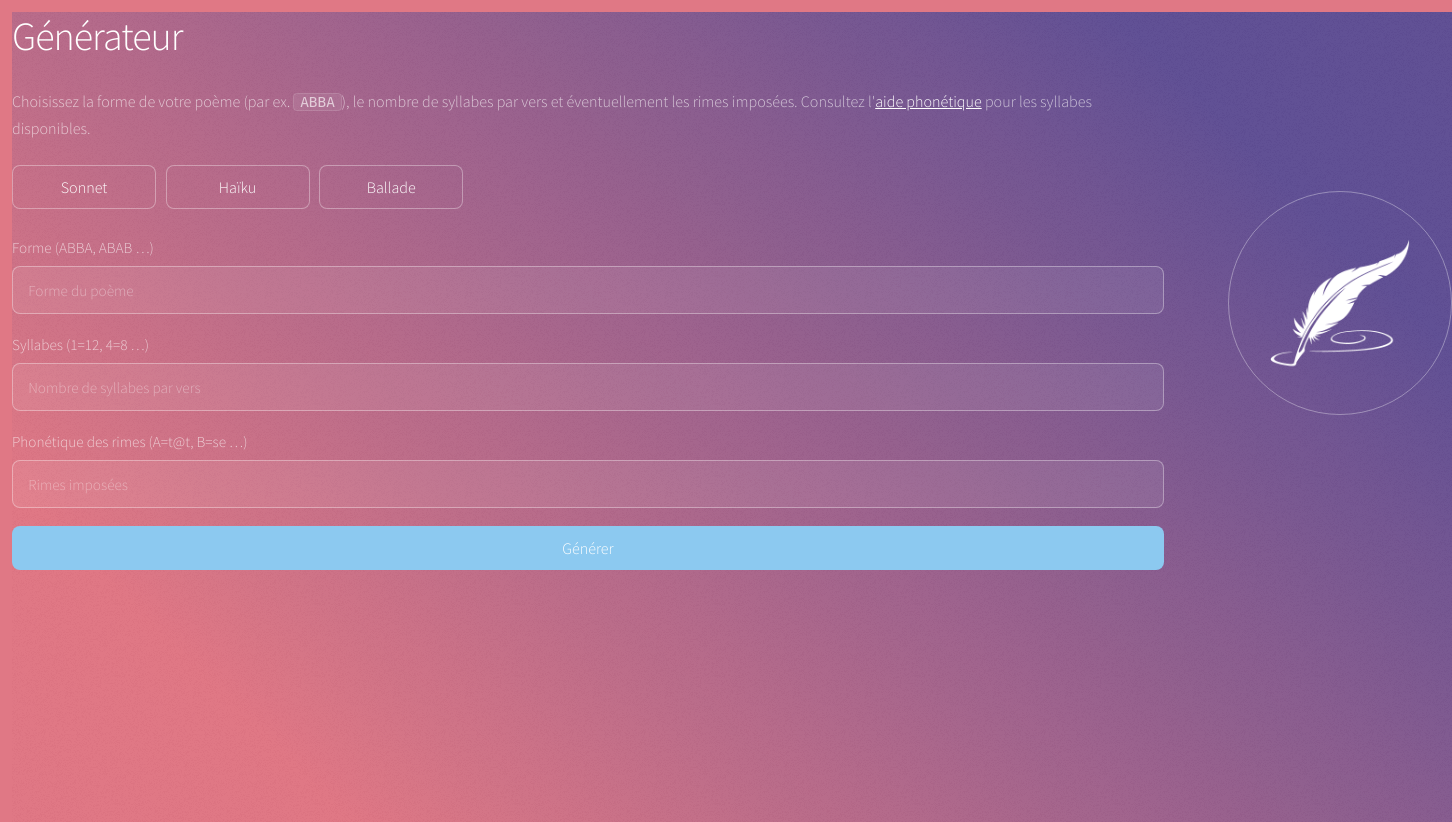
HomePage › affiche une erreur fallback générique quand l'API plante
In the field labelled "Forme (ABBA, ABAB …)": (588, 290) [12,266,1164,314], type "ABBA"
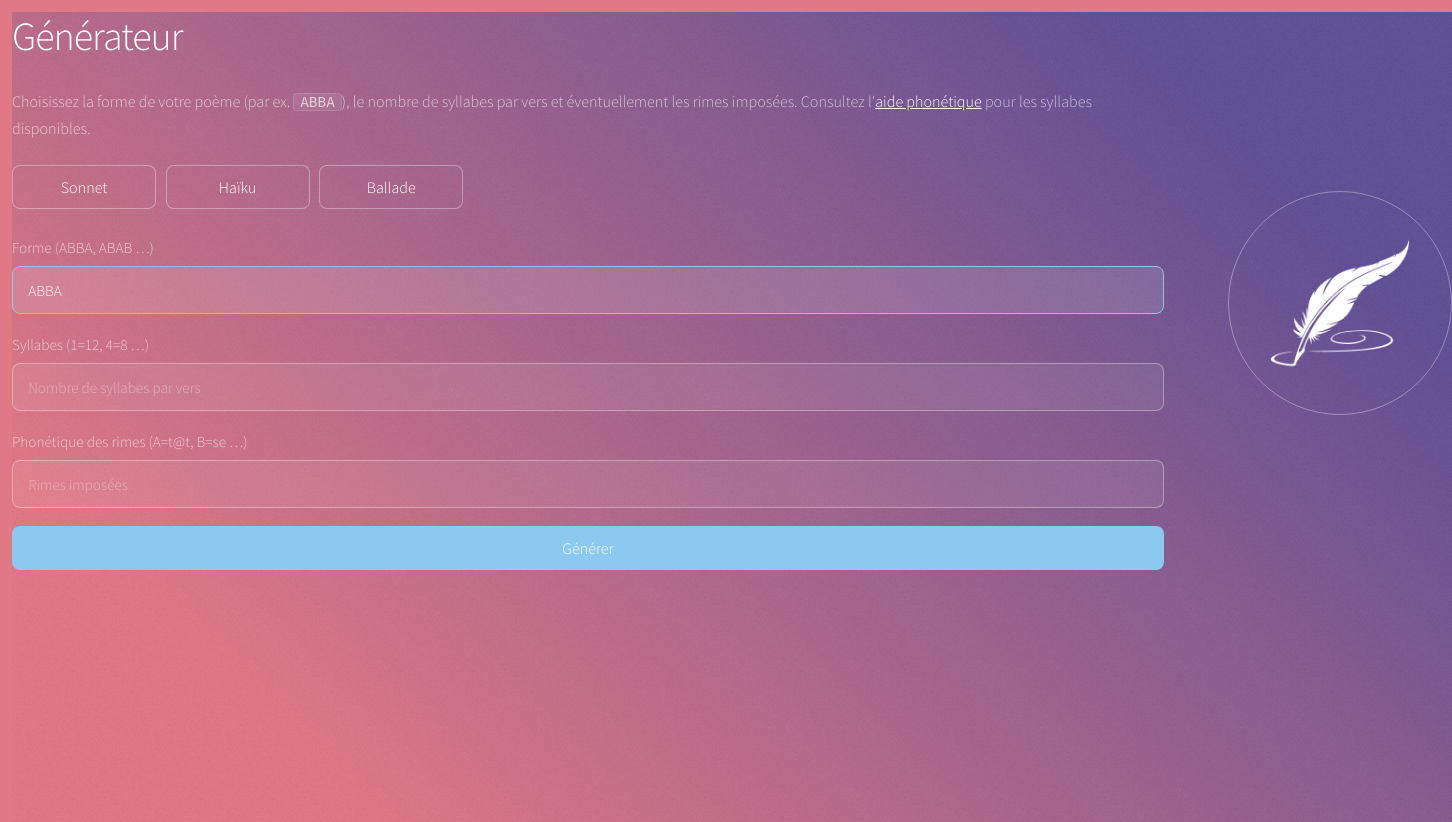
Click the button "Générer": (588, 548) [12,526,1164,570]
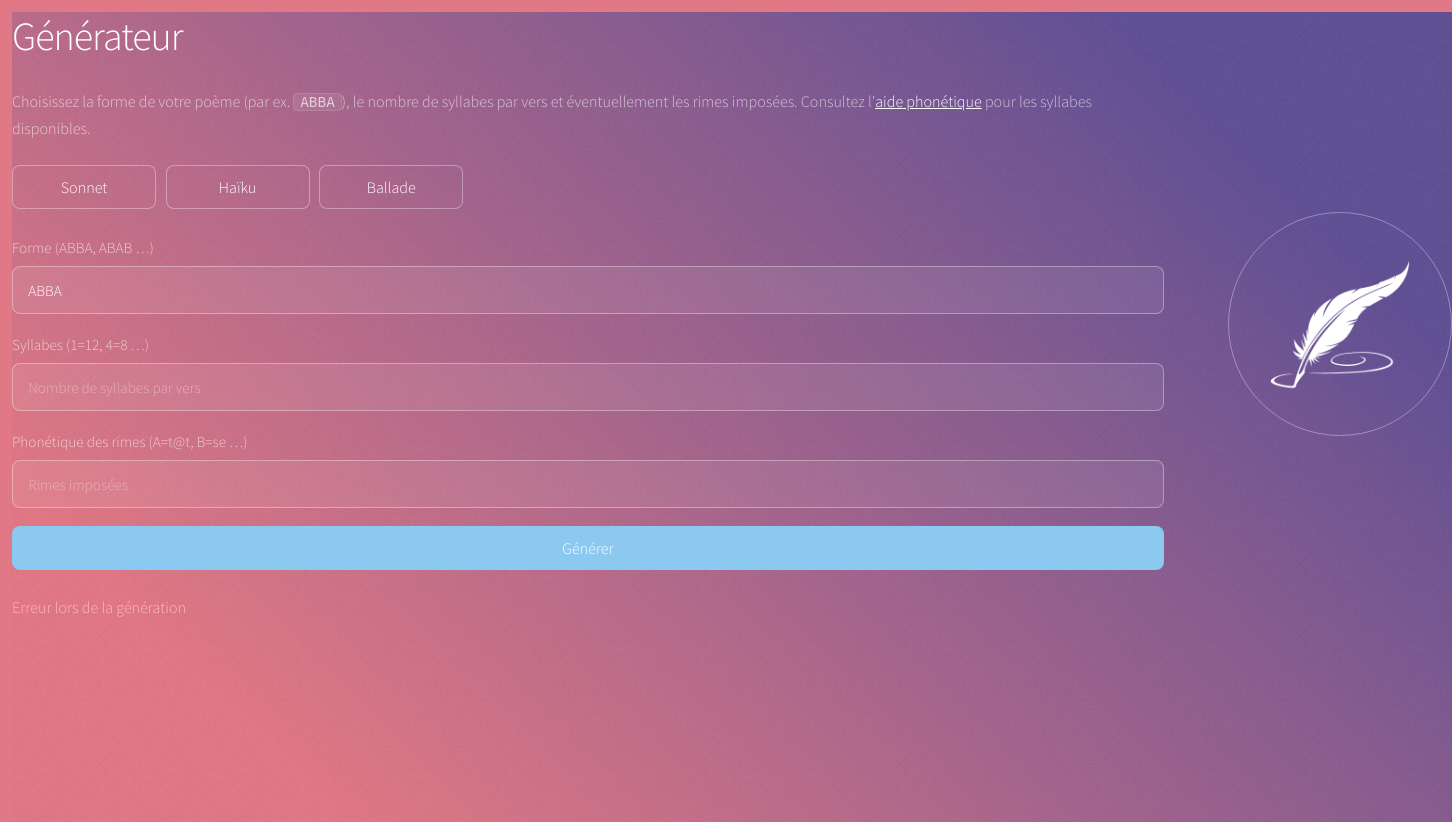
Result: the text "Erreur lors de la génération" is shown at [12,597,186,617]
